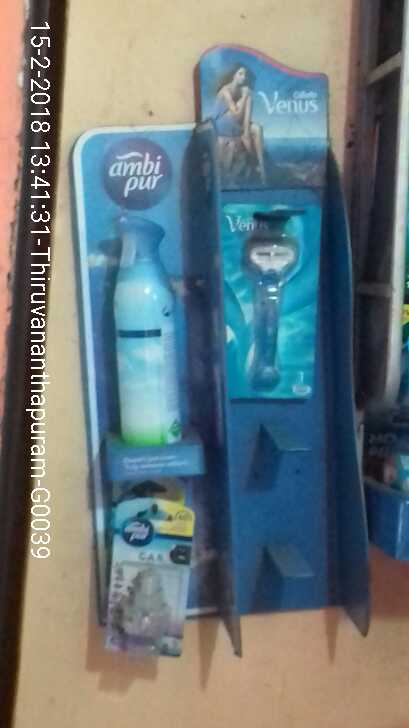beauty: (228, 191, 326, 409)
home: (115, 197, 195, 452), (100, 498, 193, 653)
